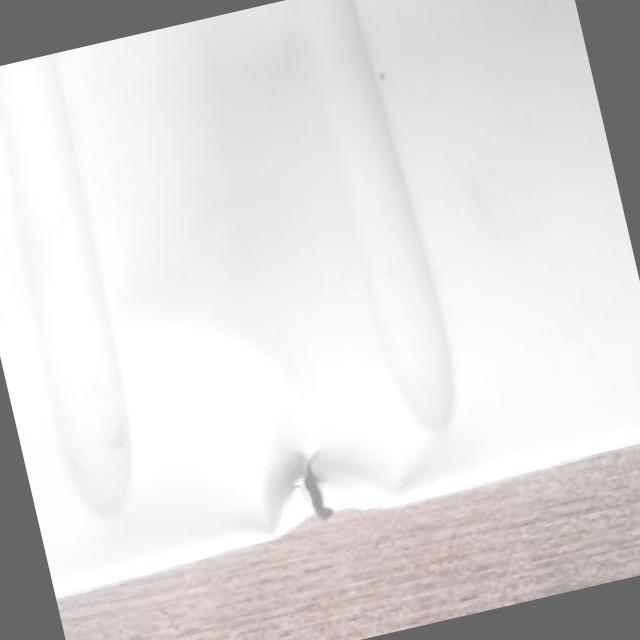crack: (274, 431, 348, 532)
